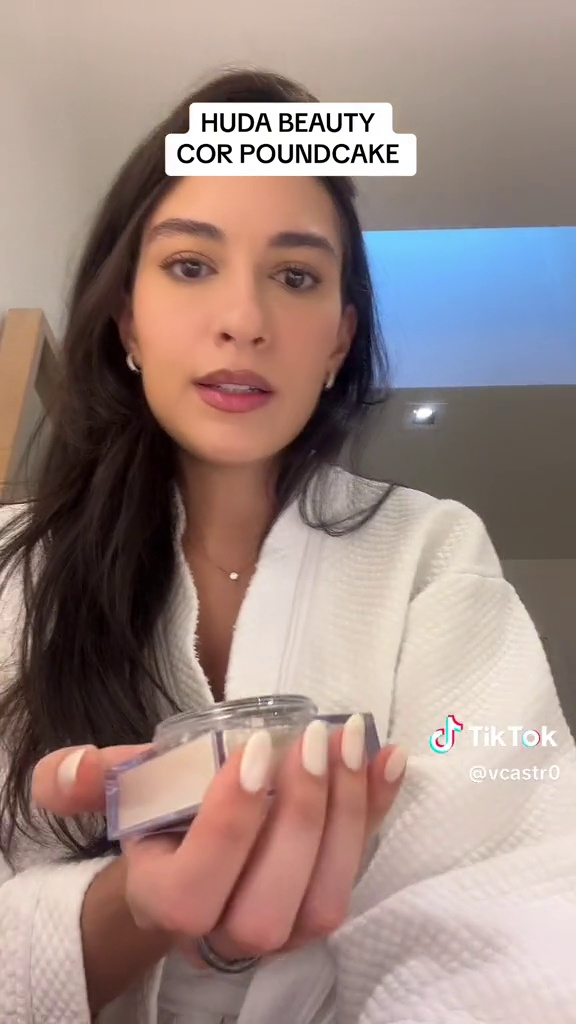train' :'yolo_data/train/images',: (93, 687, 395, 854)
